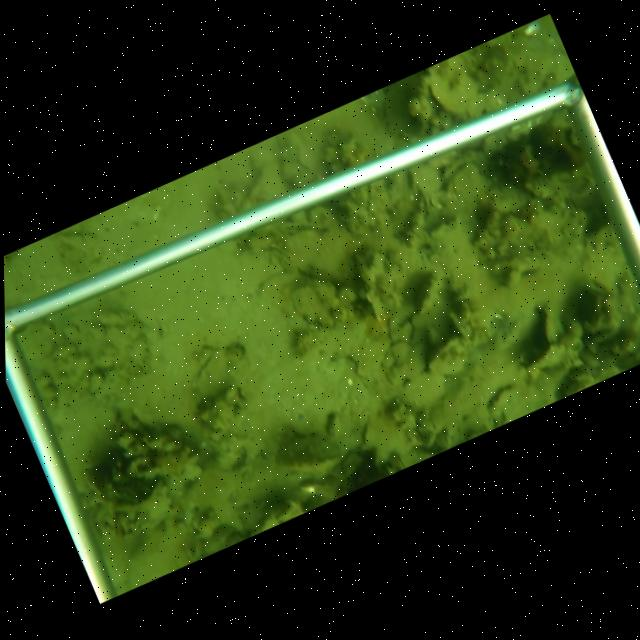Oyster-Closed: (355, 249, 391, 326), (261, 242, 297, 273), (423, 326, 440, 347)
Oyster-Indeterminate: (411, 265, 444, 316)
